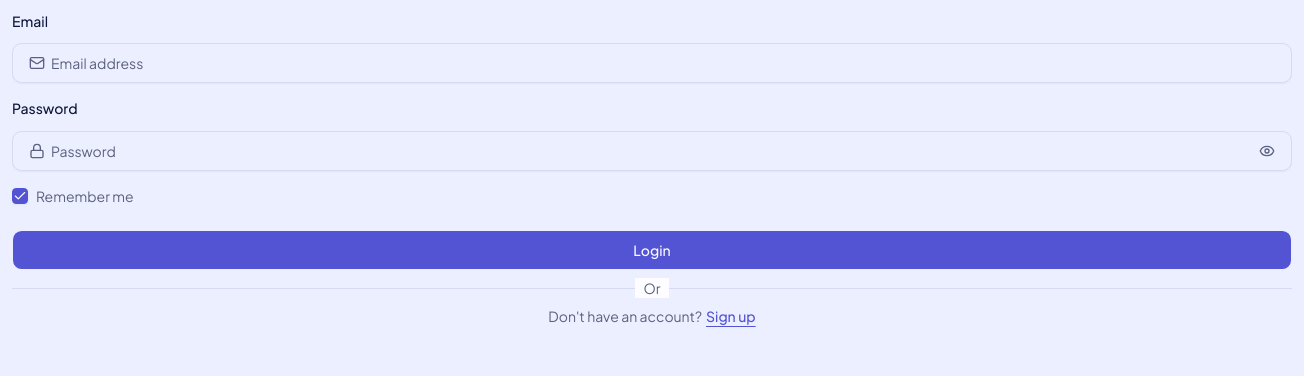
Test: LoginForm › format email tidak valid: menampilkan pesan dan tidak memanggil login
The image size is (1304, 376).
Step 1. Type "bukan-email" into the field labelled "Email" → (664, 63), box x1=45 y1=45 x2=1283 y2=81
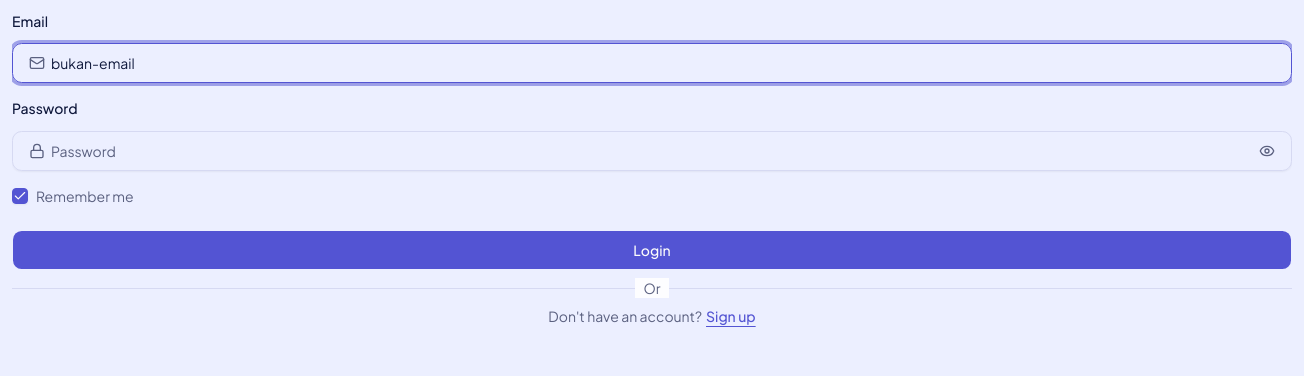
Step 2. Type "secret" into the password field labelled "Password" → (650, 150), box x1=45 y1=132 x2=1255 y2=168
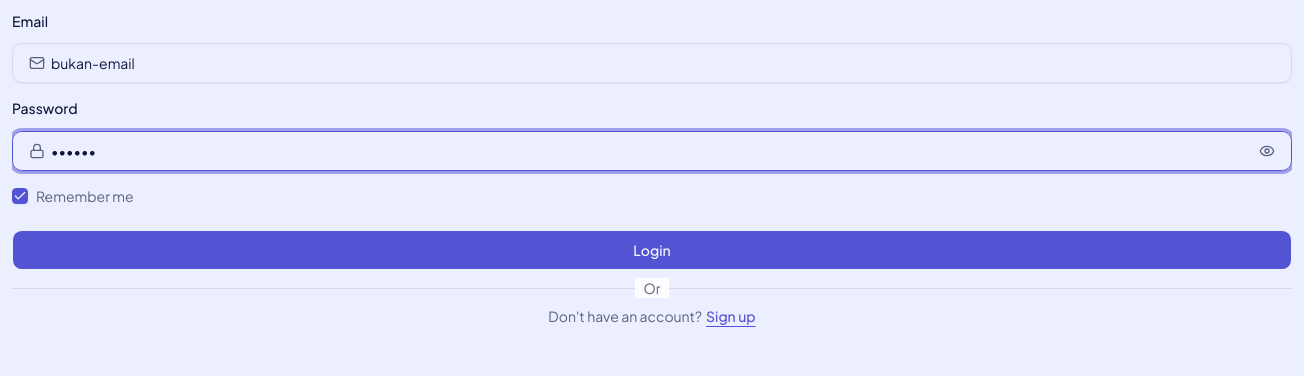
Step 3. Click the button "Login" → click(652, 250), box x1=12 y1=230 x2=1292 y2=270
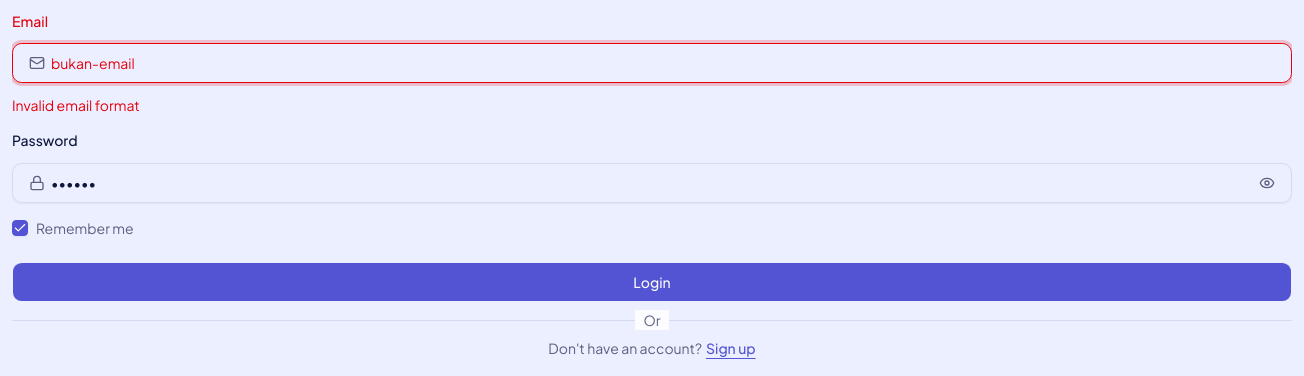
Result: the text "Invalid email format" is shown at x1=12 y1=96 x2=140 y2=114
